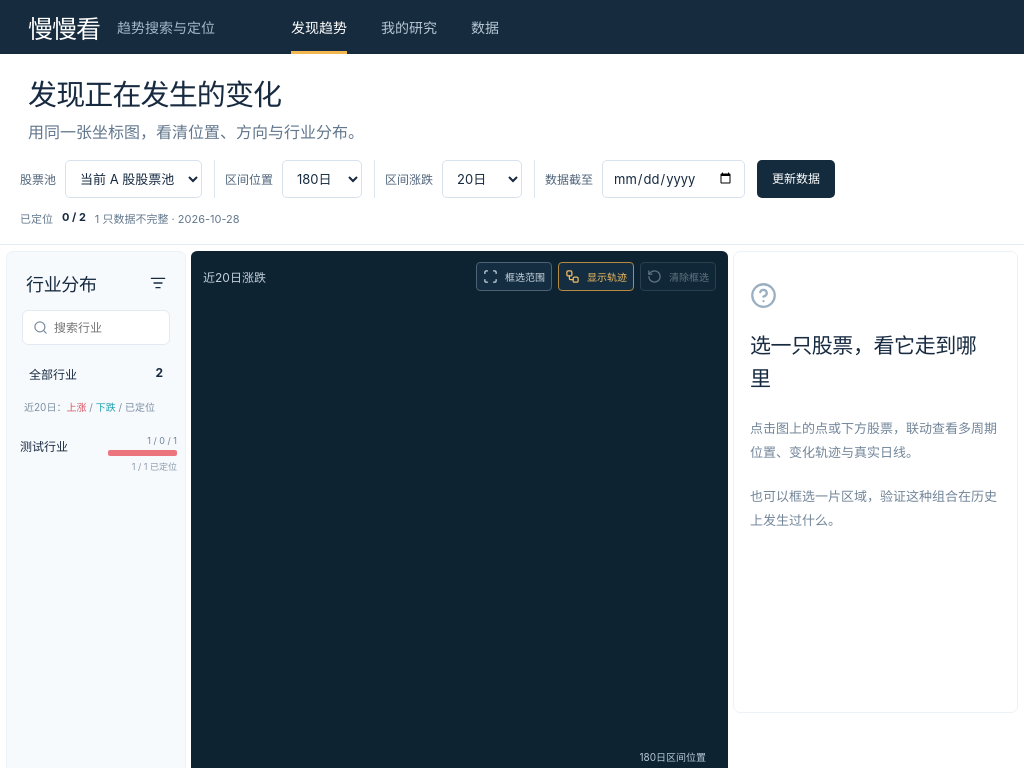
Test case: trend discovery to reproducible research › uses each server view's coverage and allows shorter valid windows without reviving stale-day data
Select "30日" in the dropdown labelled "区间位置": coordinates (322, 179) [282,160,362,198]
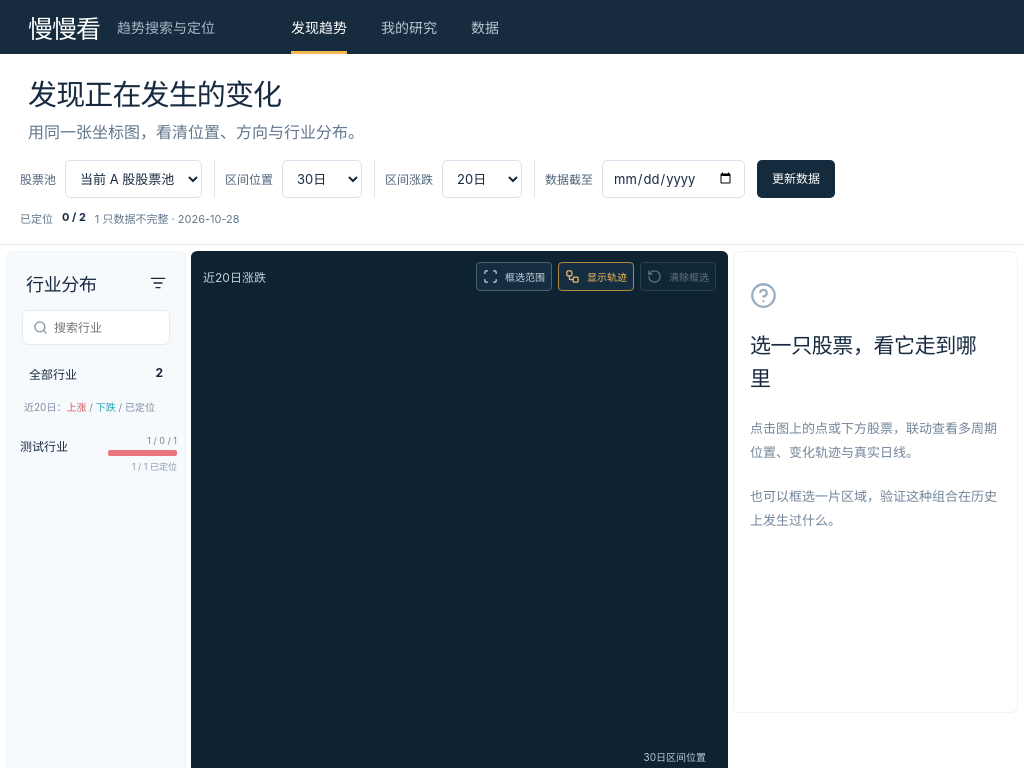
Select "5日" in the dropdown labelled "区间涨跌": coordinates (482, 179) [442,160,522,198]
(page scrolled)
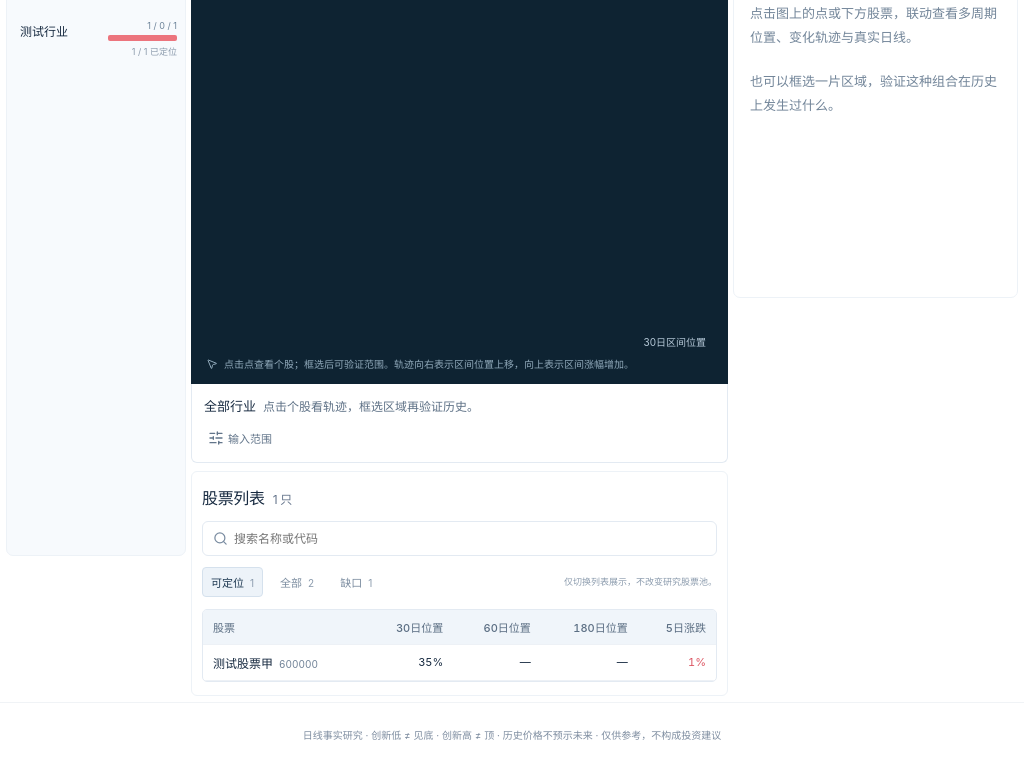
Click the button "缺口1": coordinates (356, 582) [331,567,381,597]
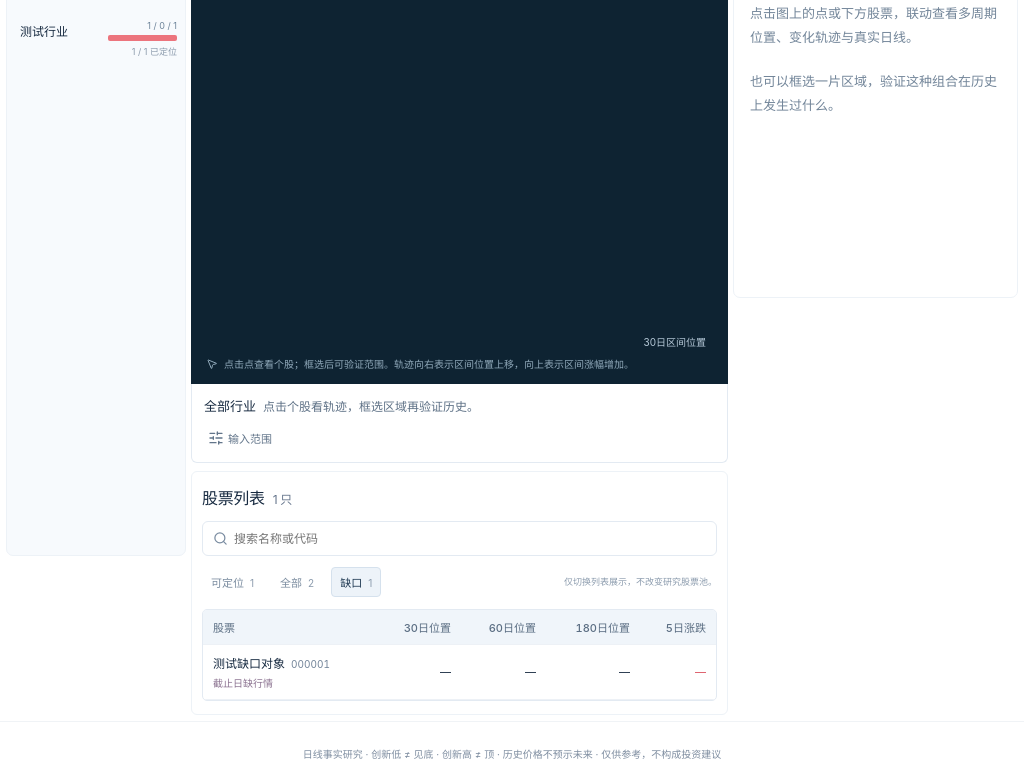
Expected: the button with aria-label "查看 测试缺口对象 000001" is shown, [213,654,330,671]
